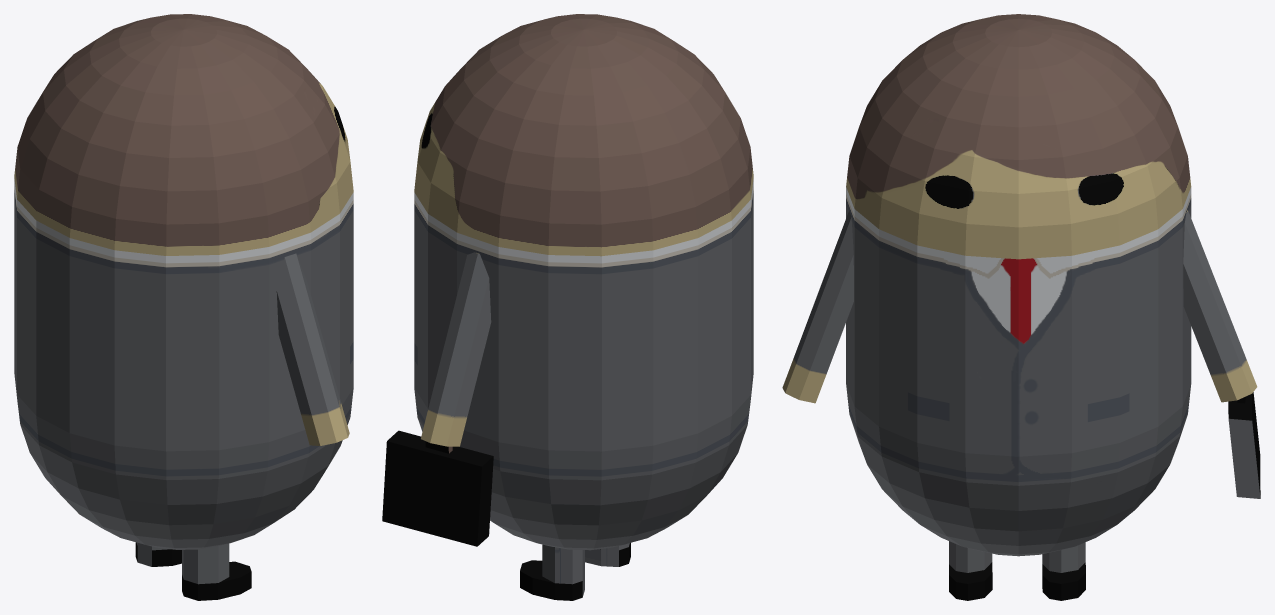
The model's file is personnage.glb.
The picture shows the model from 3 angles, left to right: view 1: azimuth 30°, elevation 25°; view 2: azimuth 150°, elevation 25°; view 3: azimuth 270°, elevation 25°; orthographic projection.
Parts seen in each view (by area): view 1: Sphère; view 2: Sphère; view 3: Sphère.
Boxes of the visible parts, x1,y1,x2,y2 form: Sphère: (14,14,353,600); Sphère: (382,14,753,600); Sphère: (782,14,1260,600).
Size of the model in its own units: 0.4629 by 0.8152 by 0.6412.
1 material, 1 textured.
